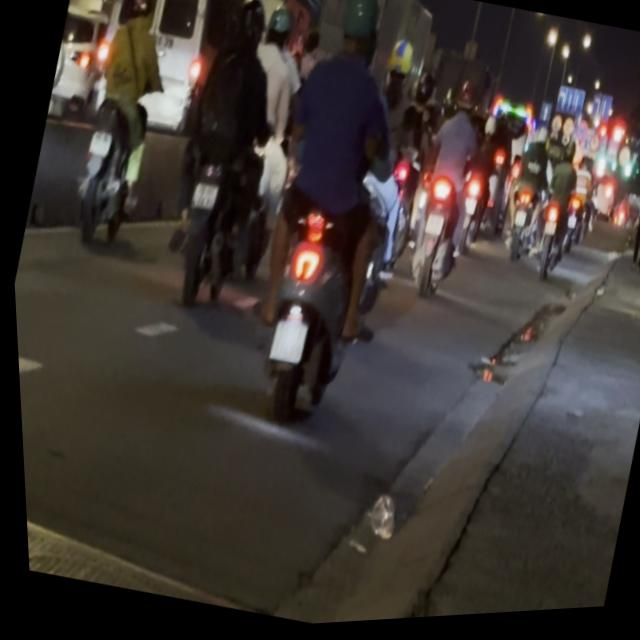helmet: (330, 0, 388, 66), (378, 38, 419, 96), (230, 0, 271, 57), (260, 4, 295, 52), (125, 0, 157, 24)
licenseplate: (207, 0, 451, 443), (133, 0, 329, 326), (50, 0, 191, 257)
nohelmet: (262, 319, 305, 369), (186, 181, 217, 213), (85, 129, 111, 157)
